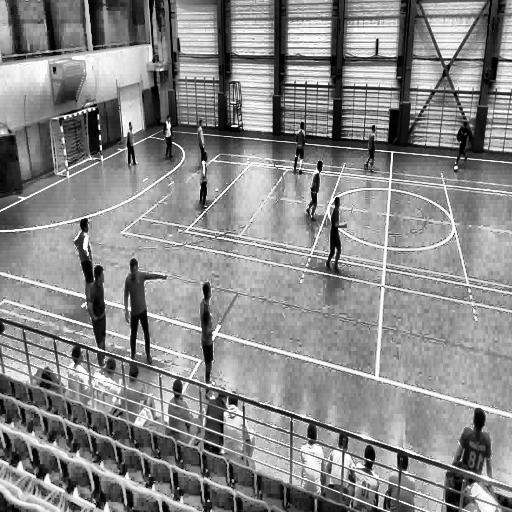ball: (453, 162, 459, 172)
player: (125, 258, 153, 366), (86, 266, 107, 361), (199, 280, 215, 390), (326, 196, 348, 272), (307, 159, 323, 220), (453, 119, 471, 168), (292, 119, 308, 174), (198, 150, 210, 211), (364, 123, 377, 173), (126, 120, 138, 169), (197, 114, 208, 162), (164, 113, 174, 161)
